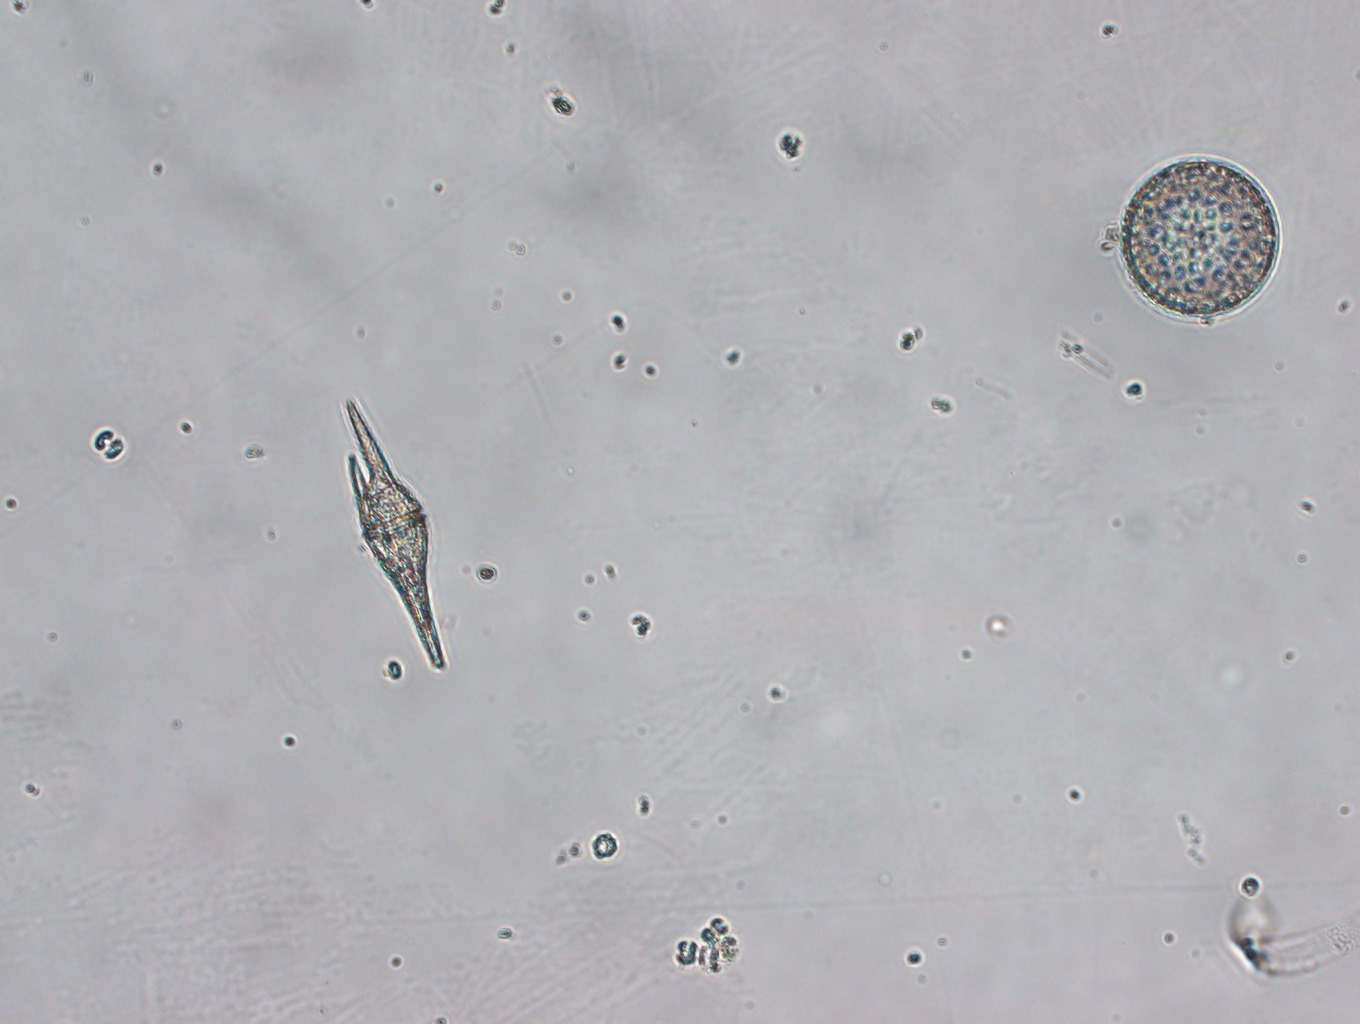ceratium furca: (341, 394, 445, 675)
coscinodiscus: (1118, 153, 1282, 324)
